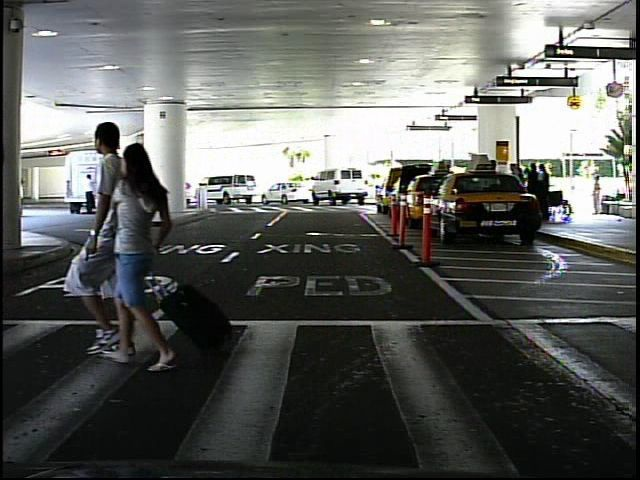person: (113, 134, 189, 377), (78, 116, 138, 363), (81, 170, 99, 220), (589, 172, 606, 218)
